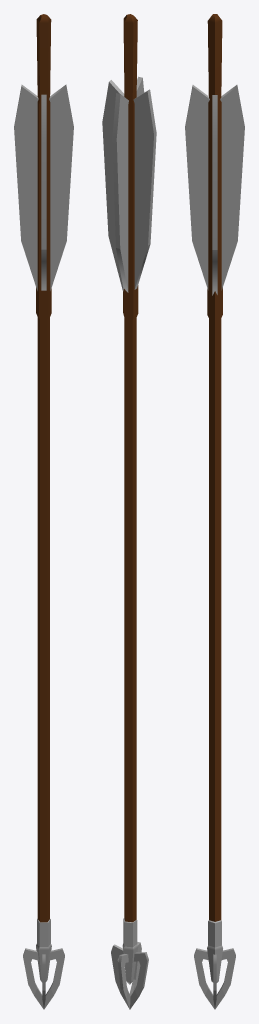
Rendered from Arrow_Basic.fbx.
3 renders of one model, left to right at view 1: azimuth 90°, elevation 25°; view 2: azimuth 150°, elevation 25°; view 3: azimuth 270°, elevation 25°, orthographic.
Visible parts, largest first — view 1: Arrow_Basic, ArrowTip; view 2: Arrow_Basic, ArrowTip; view 3: Arrow_Basic, ArrowTip.
Boxes of the visible parts, x1=… form: Arrow_Basic: x1=14, y1=14, x2=73, y2=922; ArrowTip: x1=23, y1=919, x2=64, y2=1009; Arrow_Basic: x1=102, y1=14, x2=156, y2=922; ArrowTip: x1=111, y1=918, x2=148, y2=1009; Arrow_Basic: x1=185, y1=14, x2=244, y2=921; ArrowTip: x1=194, y1=920, x2=235, y2=1009.
Size of the model in its own units: 4.56 by 83.7 by 4.56.
